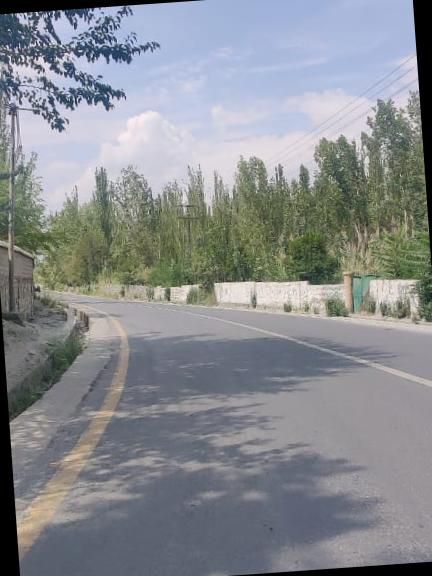right_turn: (0, 209, 371, 411)
